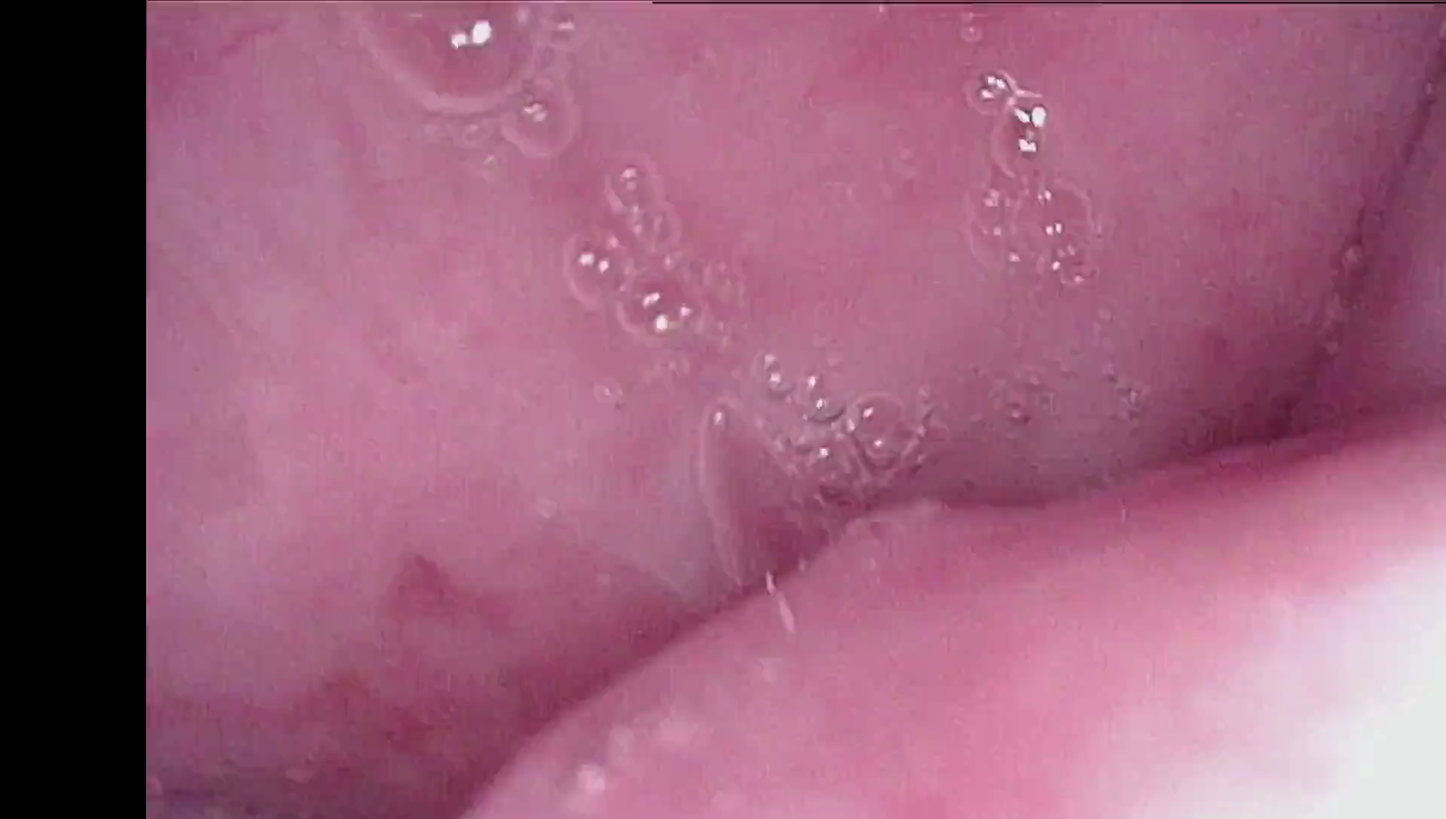close_wall: (879, 464, 1446, 819)
